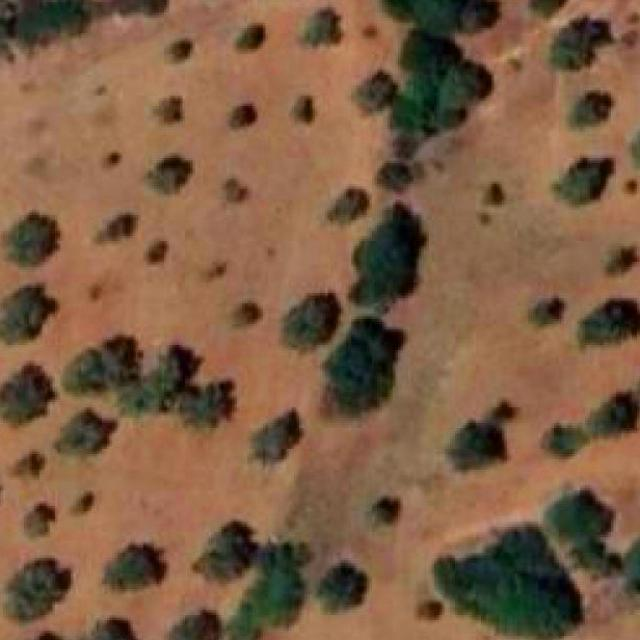Tree: (444, 530, 580, 637), (306, 314, 414, 426), (343, 204, 431, 306), (246, 530, 320, 637), (259, 282, 346, 356), (546, 485, 624, 552), (0, 0, 94, 54), (455, 405, 520, 483), (192, 504, 266, 572), (538, 151, 616, 213), (64, 329, 140, 392), (309, 556, 377, 625), (433, 57, 499, 128), (0, 556, 74, 619), (544, 10, 613, 76), (102, 537, 174, 600), (380, 0, 502, 36), (121, 343, 185, 407), (0, 355, 57, 426), (181, 369, 242, 434), (579, 292, 640, 353), (0, 275, 50, 347), (289, 5, 349, 61), (559, 78, 623, 130), (57, 408, 112, 467), (246, 410, 299, 468), (4, 208, 57, 266), (138, 148, 190, 205), (589, 384, 639, 442), (318, 187, 372, 237), (76, 607, 154, 640), (347, 66, 398, 116), (401, 28, 457, 73), (368, 156, 421, 200), (540, 418, 581, 467), (174, 599, 223, 640), (278, 90, 320, 136), (86, 208, 138, 243), (522, 288, 566, 329), (8, 447, 52, 485), (223, 293, 265, 332), (407, 597, 450, 634), (214, 99, 255, 137), (362, 496, 405, 532), (23, 496, 62, 535), (241, 18, 273, 59), (602, 241, 637, 278), (215, 171, 250, 208), (477, 175, 512, 210), (151, 92, 185, 128), (140, 234, 169, 271), (162, 34, 195, 64), (8, 625, 71, 640), (65, 483, 96, 509), (525, 0, 569, 18), (0, 468, 6, 514), (0, 522, 6, 563)
